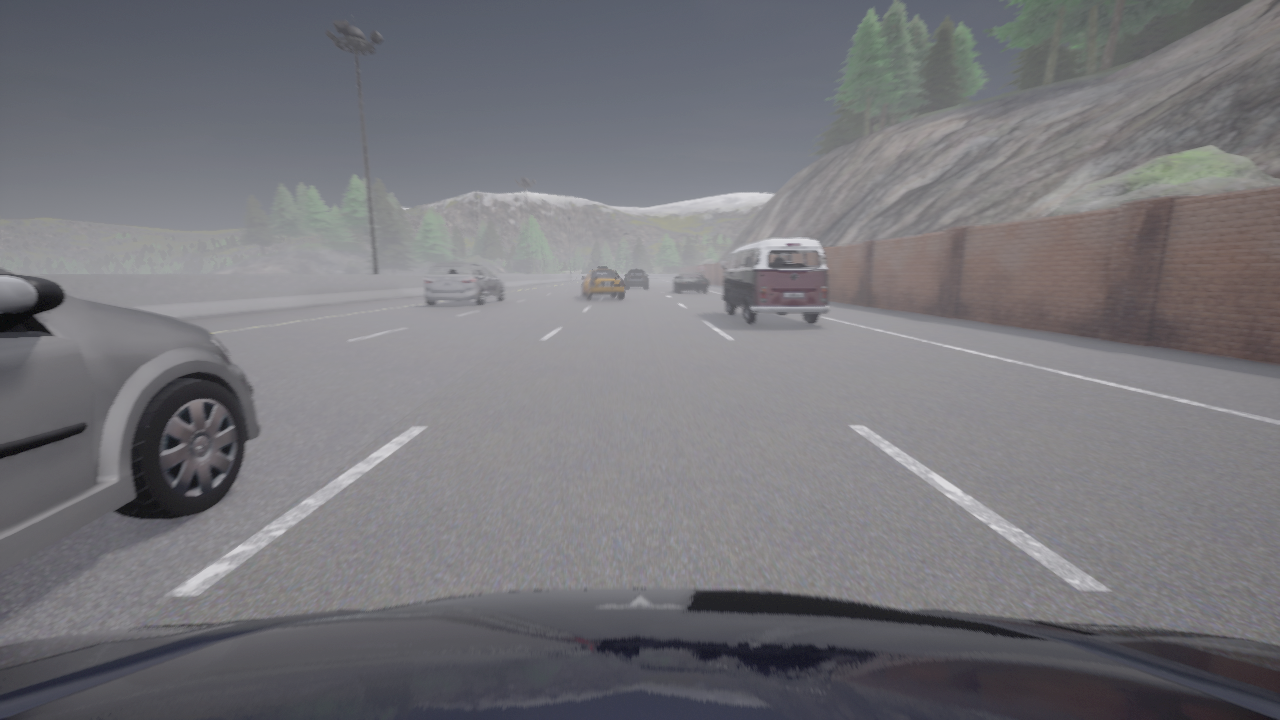cyclist: (0, 588, 1279, 719), (721, 238, 829, 323), (424, 262, 505, 305), (582, 266, 624, 299), (674, 273, 708, 292), (625, 269, 647, 287)
